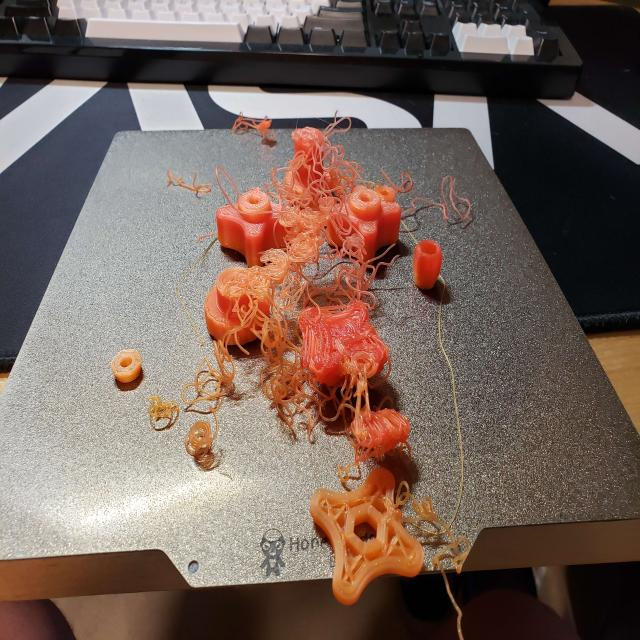spaghetti: (244, 170, 336, 454), (340, 149, 400, 307), (386, 482, 480, 574), (414, 169, 480, 229), (187, 330, 235, 410), (160, 157, 218, 216), (222, 97, 280, 153), (297, 110, 362, 157), (138, 380, 182, 433), (185, 423, 223, 463)
